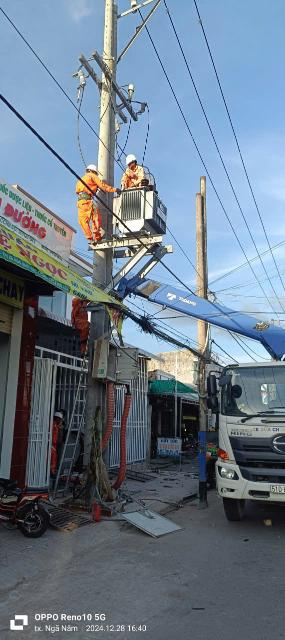harness: (74, 189, 98, 204)
helmet: (121, 153, 141, 165), (85, 162, 101, 176), (51, 411, 64, 421)
shoes: (89, 239, 96, 245)
